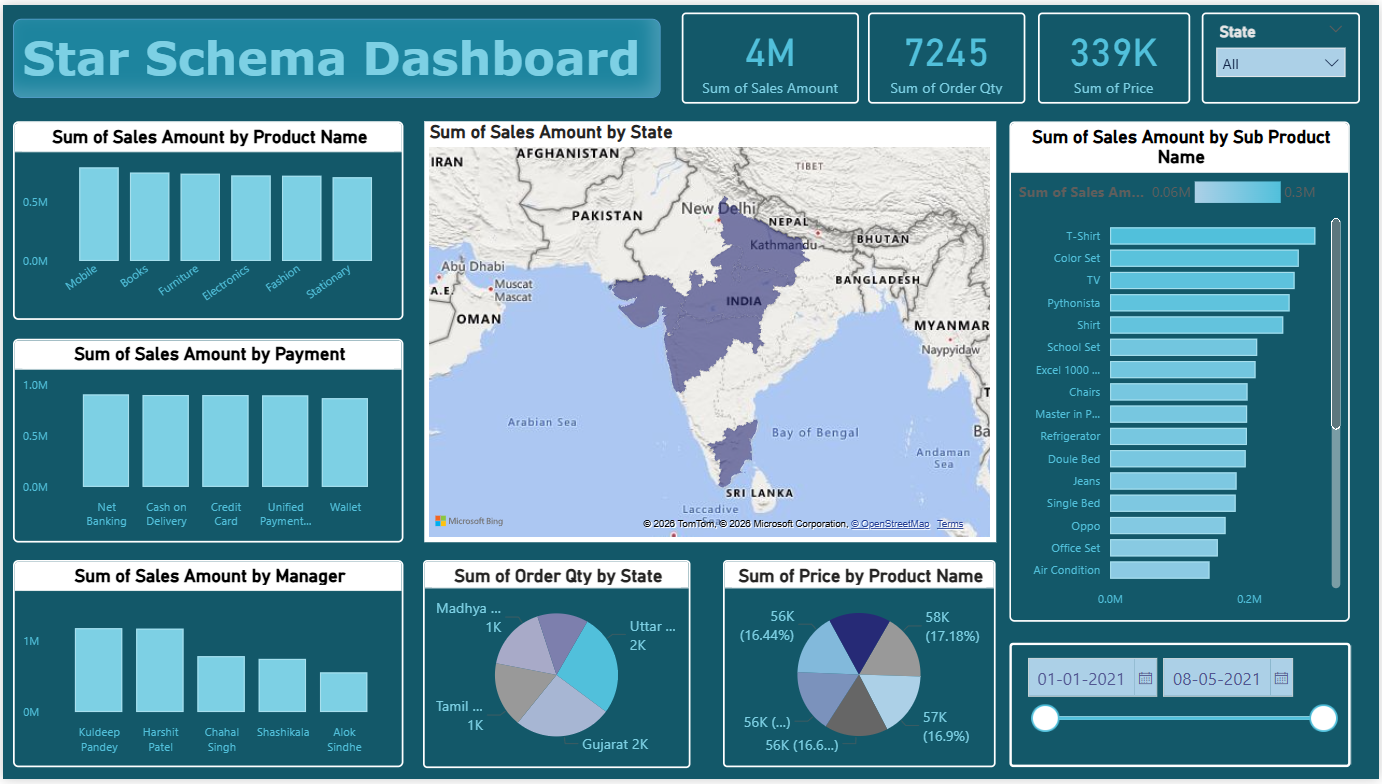

The dashboard page shown, as its layout file describes it:
{"tool":"powerbi","page":{"name":"Page 1","canvas":[1280,720],"ordinal":0},"visuals":[{"type":"textbox","box":[9.7,13.3,602,73.6],"z":0},{"type":"clusteredColumnChart","fields":{"Category":["Dim_Product.Product Name"],"Y":["Sum(Fact_Sales.Sales Amount)"]},"box":[9.7,108.6,363.1,184.6],"z":1000},{"type":"clusteredColumnChart","title":"Sum of Sales Amount by Payment","fields":{"Y":["Sum(Fact_Sales.Sales Amount)"],"Category":["Dim_Payment.Description"]},"box":[9.7,310.1,363.1,189.4],"z":2000},{"type":"clusteredColumnChart","fields":{"Category":["Fact_Sales.Manager"],"Y":["Sum(Fact_Sales.Sales Amount)"]},"box":[9.7,516.4,363.1,193],"z":3000},{"type":"clusteredBarChart","fields":{"Category":["Dim_SubProduct.Sub Product Name"],"Y":["Sum(Fact_Sales.Sales Amount)"]},"box":[935.7,108.6,317.1,465.7],"z":4000},{"type":"pieChart","fields":{"Category":["Dim_State.State"],"Y":["Sum(Fact_Sales.Order Qty)"]},"box":[391.2,516.2,248.8,193.8],"z":5000},{"type":"pieChart","fields":{"Category":["Dim_Product.Product Name"],"Y":["Sum(Fact_Sales.Price)"]},"box":[669.6,516.4,253.4,193],"z":6000},{"type":"filledMap","fields":{"Category":["Dim_State.State"]},"box":[391.4,108.6,531.4,391.4],"z":7000},{"type":"card","fields":{"Values":["Sum(Fact_Sales.Sales Amount)"]},"box":[631.2,7.5,165,85],"z":8000},{"type":"card","fields":{"Values":["Sum(Fact_Sales.Order Qty)"]},"box":[805,7.5,146.2,85],"z":9000},{"type":"card","fields":{"Values":["Sum(Fact_Sales.Price)"]},"box":[962.5,7.5,141.2,85],"z":10000},{"type":"slicer","fields":{"Values":["Dim_State.State"]},"box":[1114.8,7.2,147.2,84.5],"z":11000},{"type":"slicer","fields":{"Values":["Fact_Sales.Date"]},"box":[936.2,593.6,317.3,115.8],"z":12000}]}

Visuals, with their boxes in screenshot pixels (x1, y1, x2, y2), scaled from the page's 1280x720 canvas onto the 1382x784 screenshot:
textbox: 10/14/660/95
clusteredColumnChart - Dim_Product.Product Name x Sum(Fact_Sales.Sales Amount): 10/118/403/319
"Sum of Sales Amount by Payment" clusteredColumnChart: 10/338/403/544
clusteredColumnChart - Fact_Sales.Manager x Sum(Fact_Sales.Sales Amount): 10/562/403/772
clusteredBarChart - Dim_SubProduct.Sub Product Name x Sum(Fact_Sales.Sales Amount): 1010/118/1353/625
pieChart - Dim_State.State x Sum(Fact_Sales.Order Qty): 422/562/691/773
pieChart - Dim_Product.Product Name x Sum(Fact_Sales.Price): 723/562/997/772
filledMap - Dim_State.State: 423/118/996/544
card - Sum(Fact_Sales.Sales Amount): 681/8/860/101
card - Sum(Fact_Sales.Order Qty): 869/8/1027/101
card - Sum(Fact_Sales.Price): 1039/8/1192/101
slicer - Dim_State.State: 1204/8/1363/100
slicer - Fact_Sales.Date: 1011/646/1353/772
